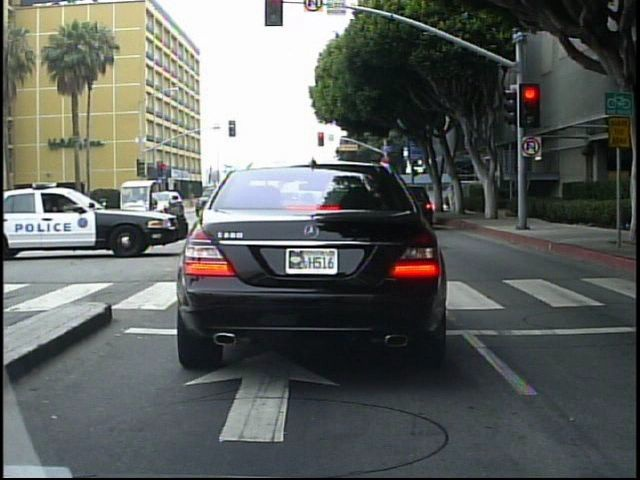person: (444, 179, 460, 215)
